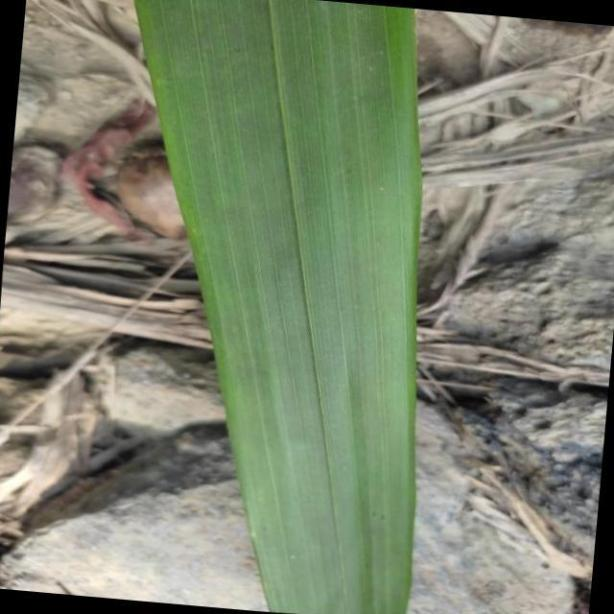Healthy: (132, 0, 424, 614)
